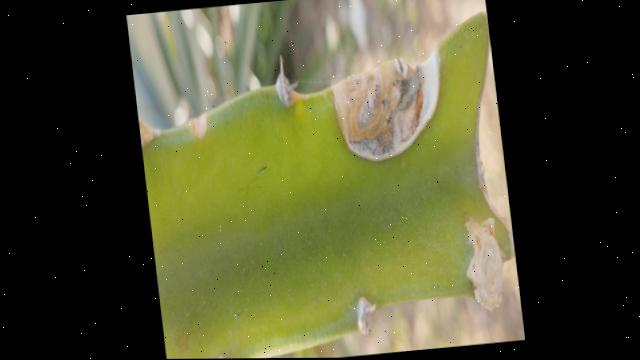stemcanker: (455, 214, 511, 316)
